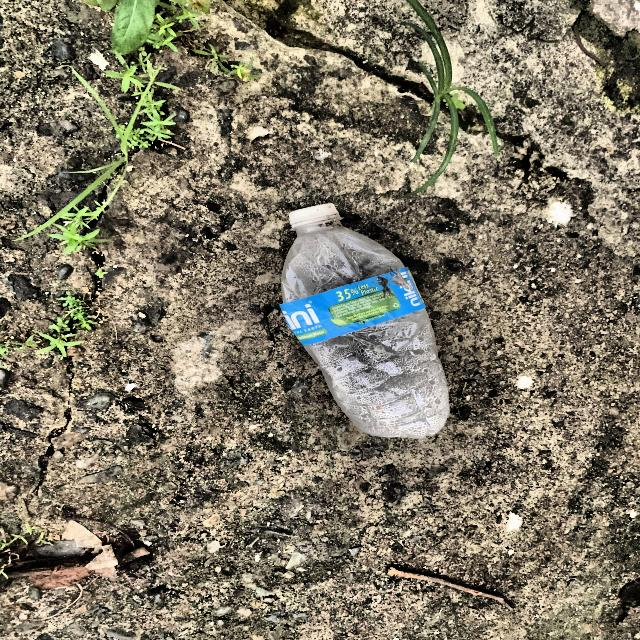Bottles: (277, 197, 476, 451)
